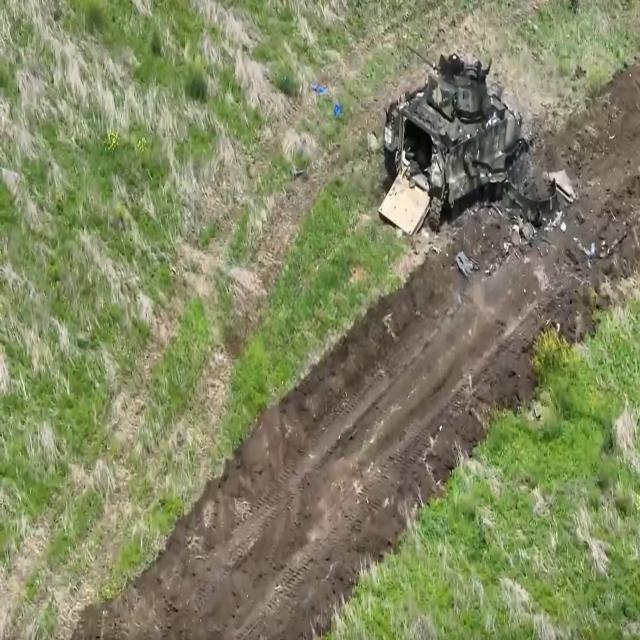AIFV: (374, 44, 529, 242)
